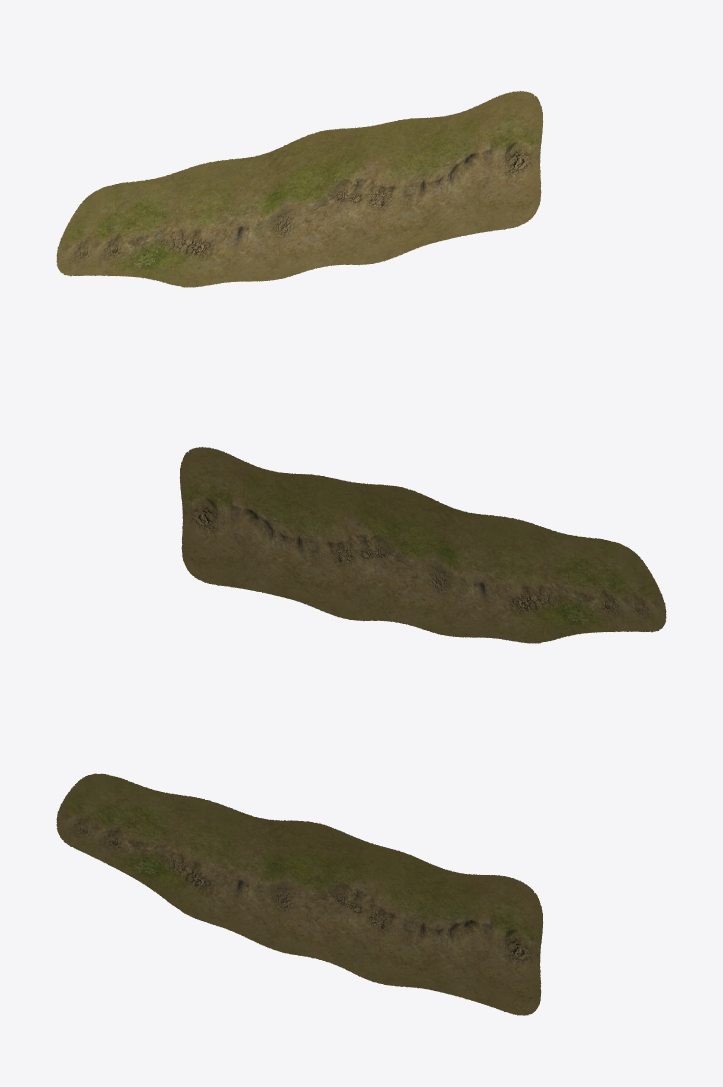
File: TR_Plant_All_12_2.FBX
3 renders of one model, top to bottom at view 1: azimuth 30°, elevation 25°; view 2: azimuth 150°, elevation 25°; view 3: azimuth 330°, elevation 25°, orthographic.
Parts seen in each view (by area): view 1: TR_Plant_All_12_2; view 2: TR_Plant_All_12_2; view 3: TR_Plant_All_12_2.
Part boxes in pixels (x1,y1,x2,y2): TR_Plant_All_12_2: (56, 91, 543, 287); TR_Plant_All_12_2: (179, 447, 666, 643); TR_Plant_All_12_2: (56, 773, 543, 1015).
Size of the model in its own units: 2.16 by 0.5923 by 3.74e-07.
Materials: 1 (1 with a texture image).
